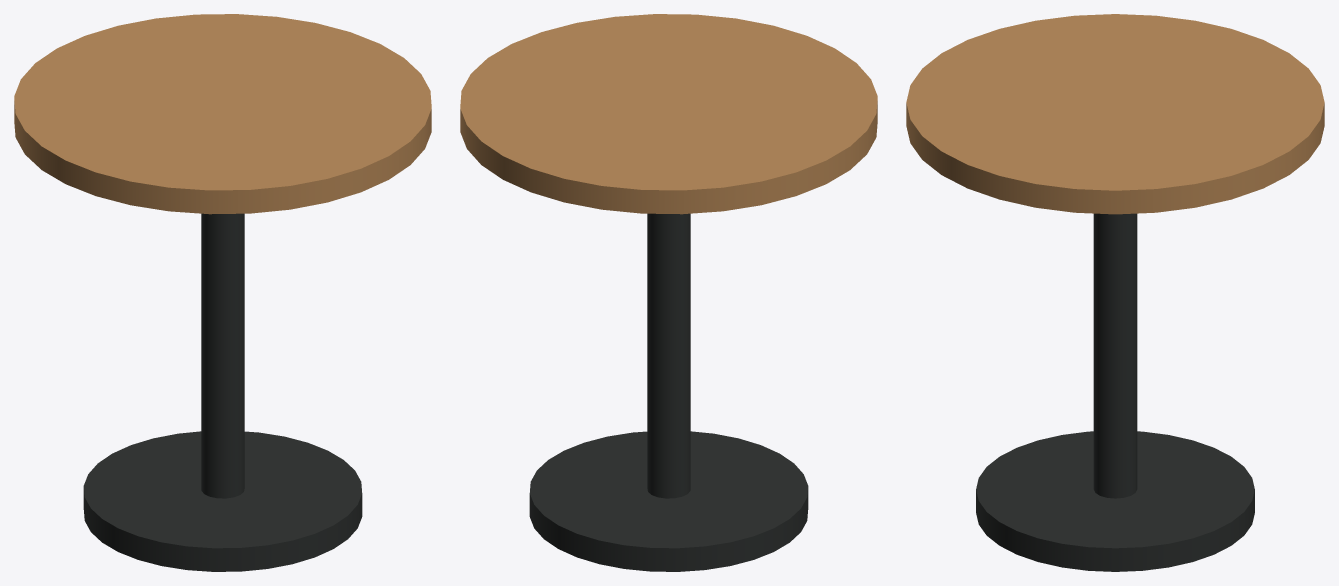
The model's file is side-table.glb.
3 renders of one model, left to right at view 1: azimuth 30°, elevation 25°; view 2: azimuth 150°, elevation 25°; view 3: azimuth 270°, elevation 25°, orthographic.
Visible parts, largest first — view 1: top, frame_base, frame_stem; view 2: top, frame_base, frame_stem; view 3: top, frame_base, frame_stem.
Part boxes in pixels (box(x1,y1,x2,y2)): top: box(14, 14, 431, 214); frame_base: box(83, 431, 362, 571); frame_stem: box(201, 213, 244, 498); top: box(460, 14, 877, 214); frame_base: box(529, 431, 808, 571); frame_stem: box(647, 213, 690, 498); top: box(906, 14, 1324, 214); frame_base: box(976, 431, 1254, 571); frame_stem: box(1093, 213, 1137, 498).
Size of the model in its own units: 0.48 by 0.52 by 0.48.
